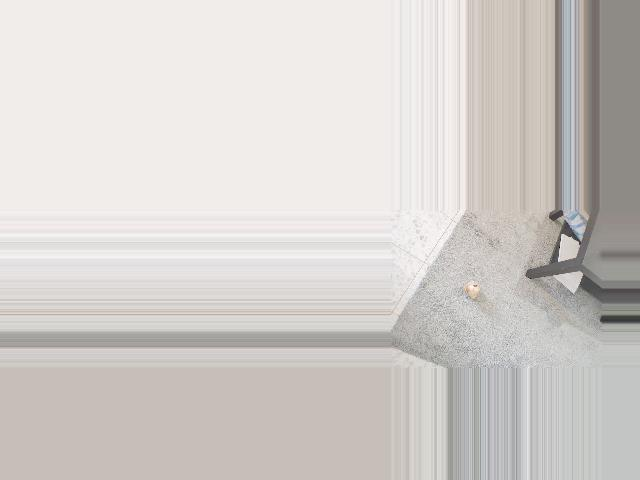onion: (460, 280, 482, 304)
